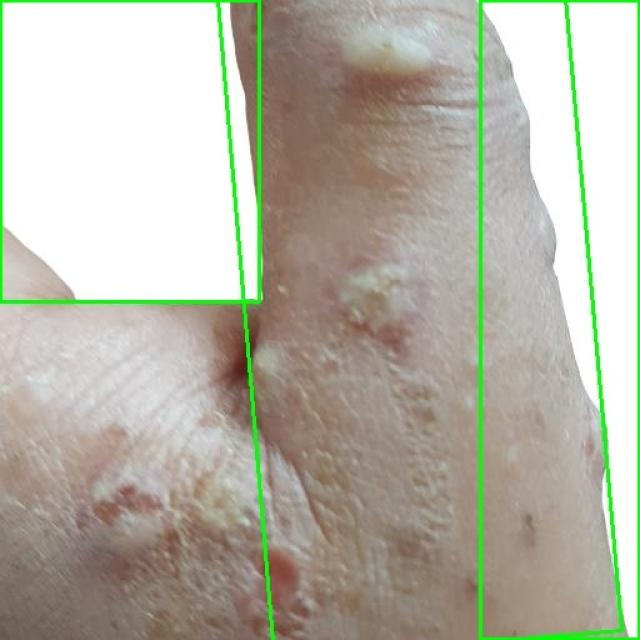Scabies: (219, 0, 621, 640), (480, 0, 639, 639), (0, 0, 259, 301)
